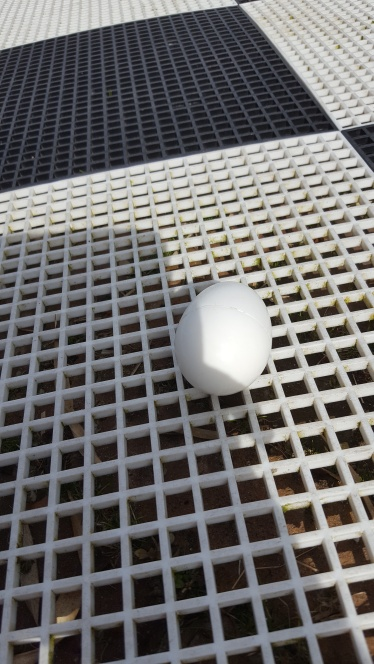egg: (172, 279, 272, 395)
